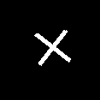single_crochet: (34, 30, 70, 65)
